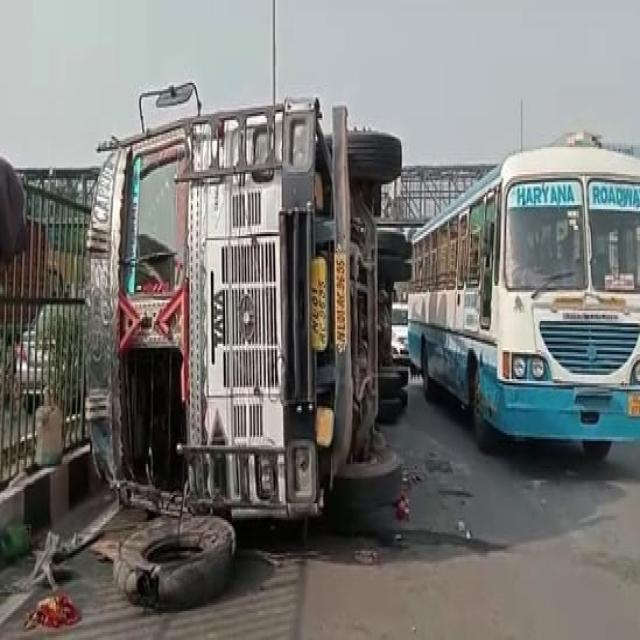accident: (86, 82, 410, 530)
bus: (409, 147, 640, 459)
